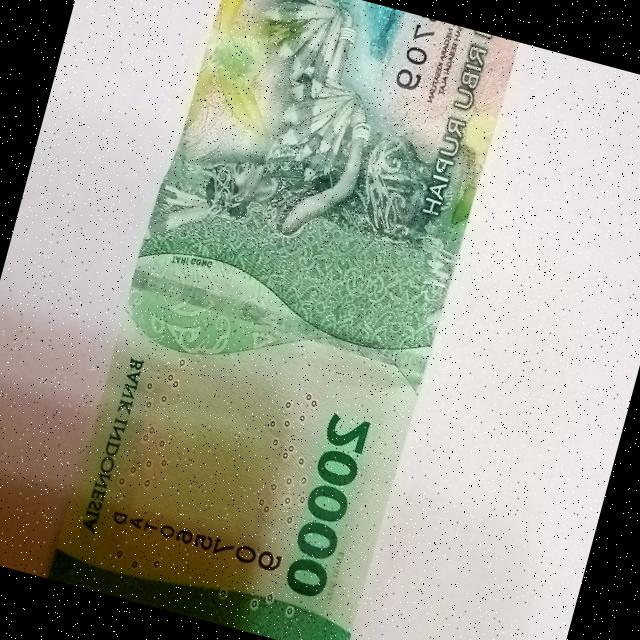20K: (39, 0, 533, 640)
